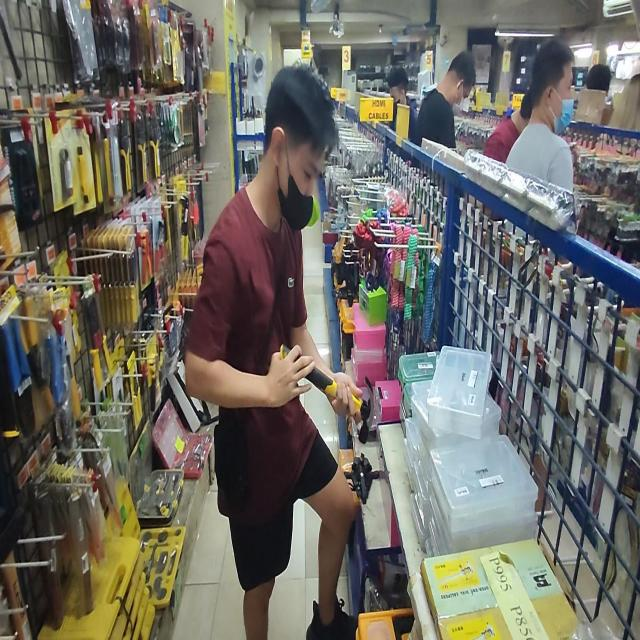hammer: (281, 345, 374, 444)
